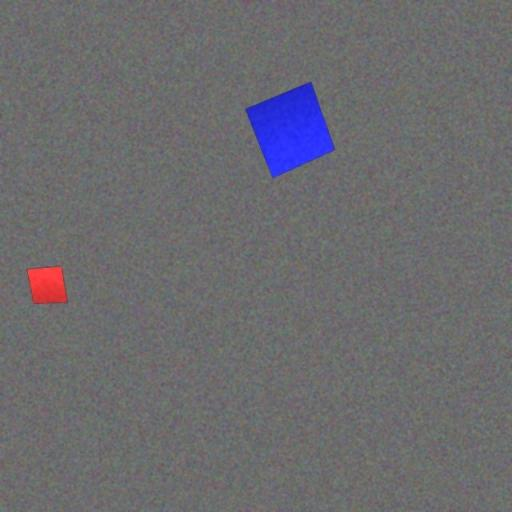BLUE_SQUARE: (245, 81, 336, 179)
RED_SQUARE: (26, 266, 69, 304)
